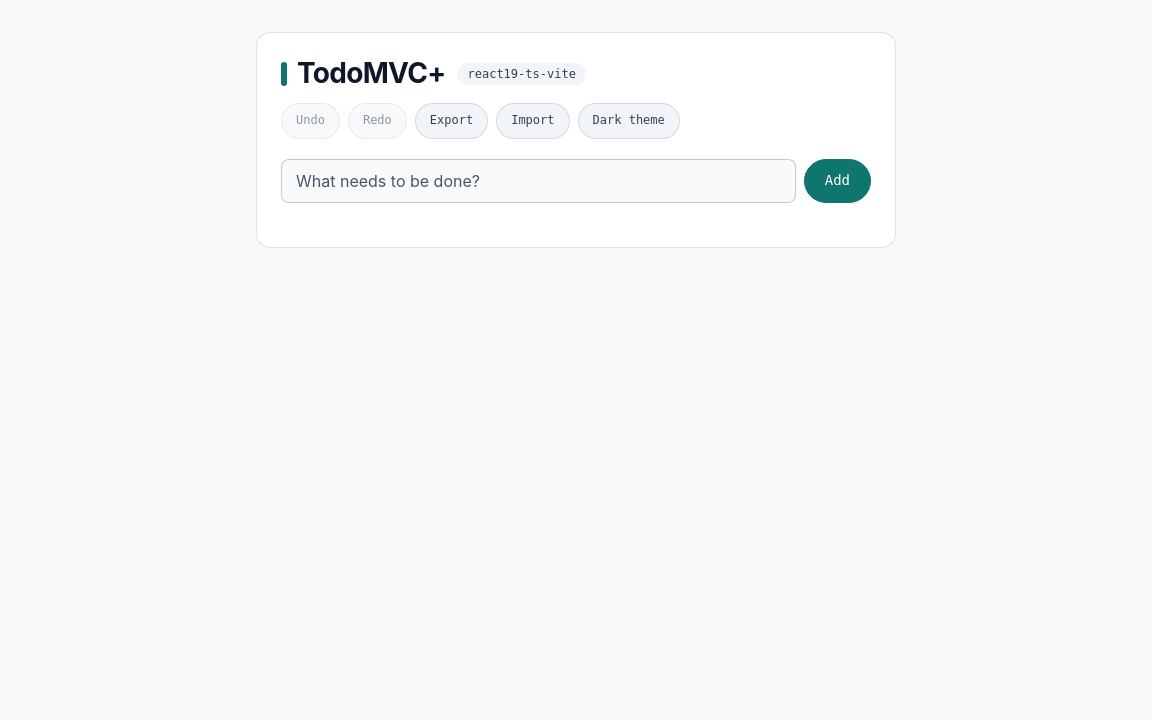
Test: App › toggles and remembers the dark theme
Later steps or results of the test are not shown.
Click the button "Dark theme": [629, 121] box [578,103,680,139]
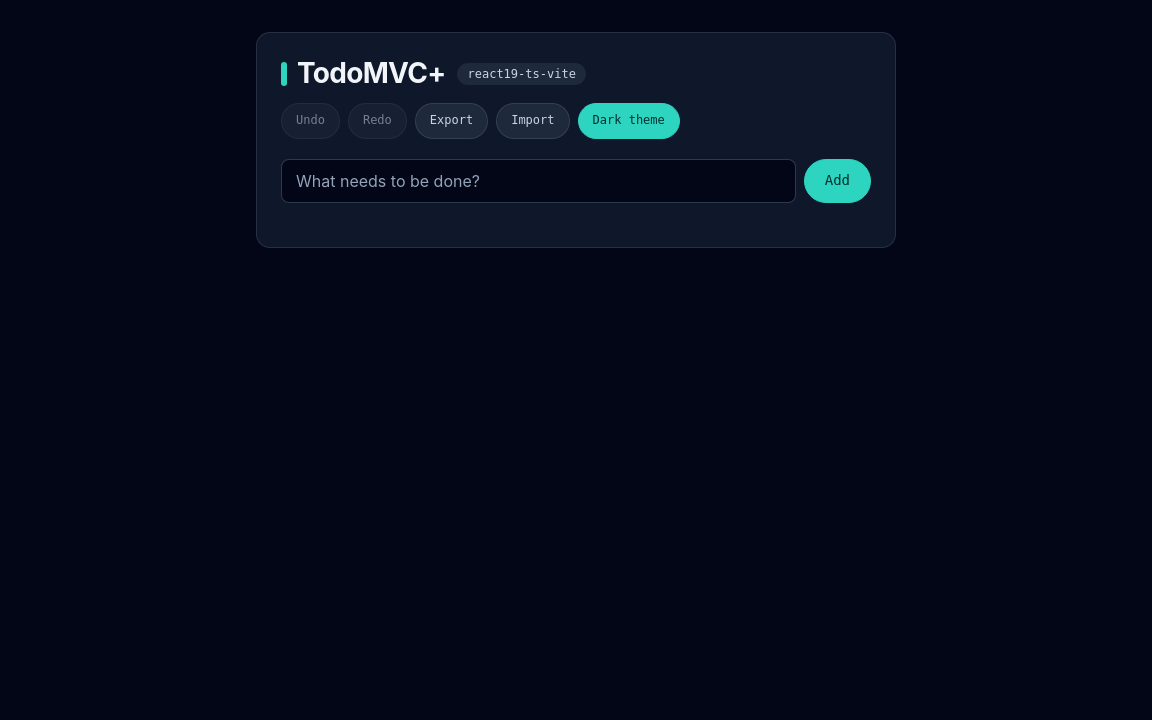
Expected: the button "Dark theme" is pressed, [578,103,680,139]
